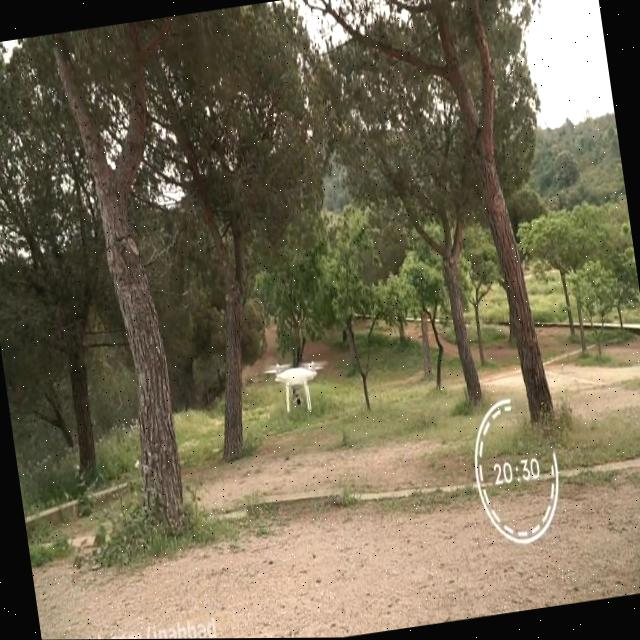drone: (260, 351, 339, 422)
